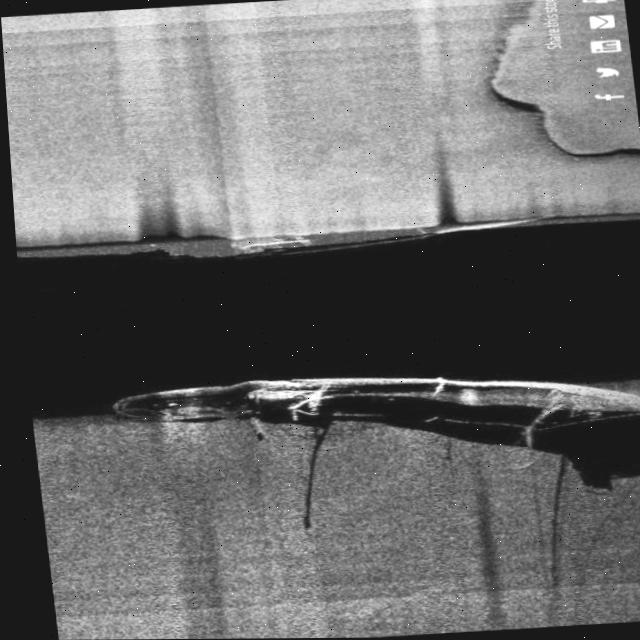shipwreck: (86, 355, 640, 449)
